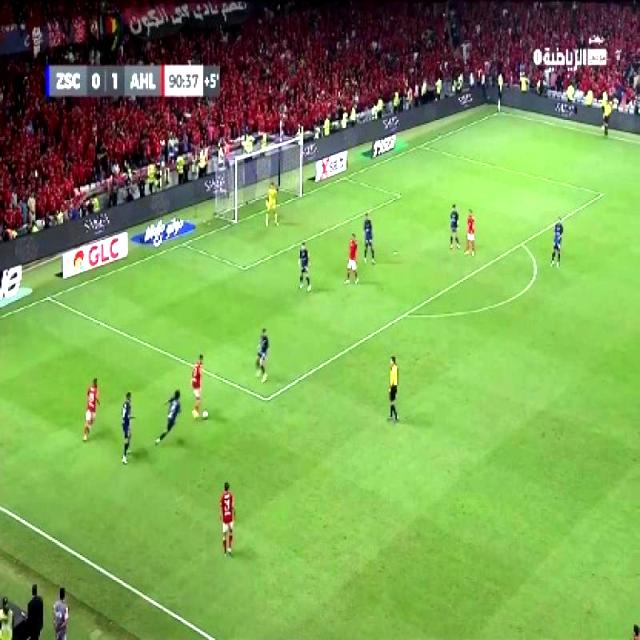bigarea_bottom_inner: (260, 392, 274, 408)
bigarea_bottom_outter: (40, 289, 59, 307)
bigarea_top_inner: (595, 186, 605, 200)
bigarea_top_outter: (414, 139, 432, 152)
bottom_arc_area_intersection: (398, 303, 419, 322)
corner: (492, 106, 504, 114)
smallarea_bottom_inner: (237, 258, 256, 276)
smallarea_bottom_outter: (173, 236, 194, 254)
smallarea_top_inner: (392, 188, 408, 202)
smallarea_top_outter: (339, 170, 355, 188)
top_arc_area_intersection: (513, 234, 530, 252)
